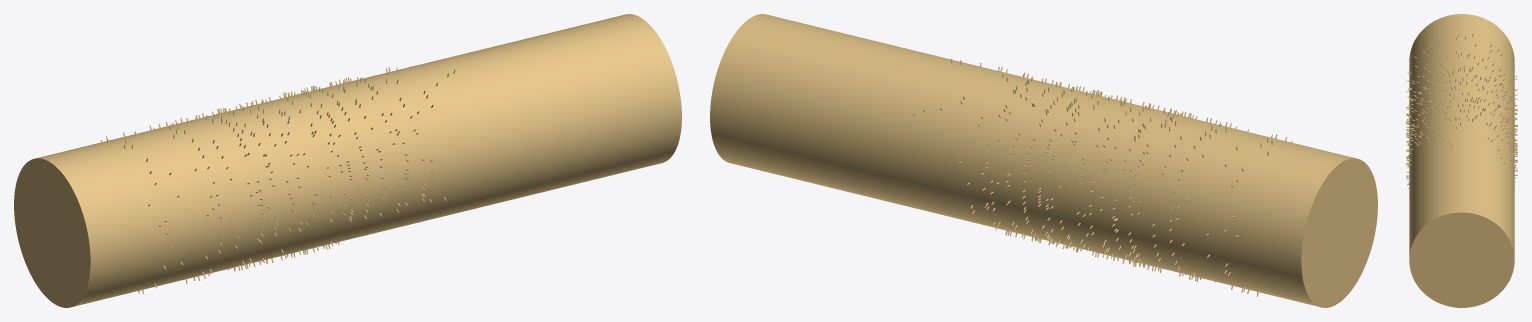
File: Mozart-The-Magic-Flute-Andante.glb
The picture shows the model from 3 angles, left to right: view 1: azimuth 30°, elevation 25°; view 2: azimuth 150°, elevation 25°; view 3: azimuth 270°, elevation 25°; orthographic projection. The views are drawn at different scales.
Parts seen in each view (by area): view 1: cylinder_body; view 2: cylinder_body; view 3: cylinder_body.
Boxes of the visible parts, box(x1,y1,x2,y2) form: cylinder_body: box(14, 14, 681, 307); cylinder_body: box(710, 14, 1377, 307); cylinder_body: box(1409, 14, 1514, 307).
Bounding box in the file's own units: 0.214 × 0.051 × 0.051.
